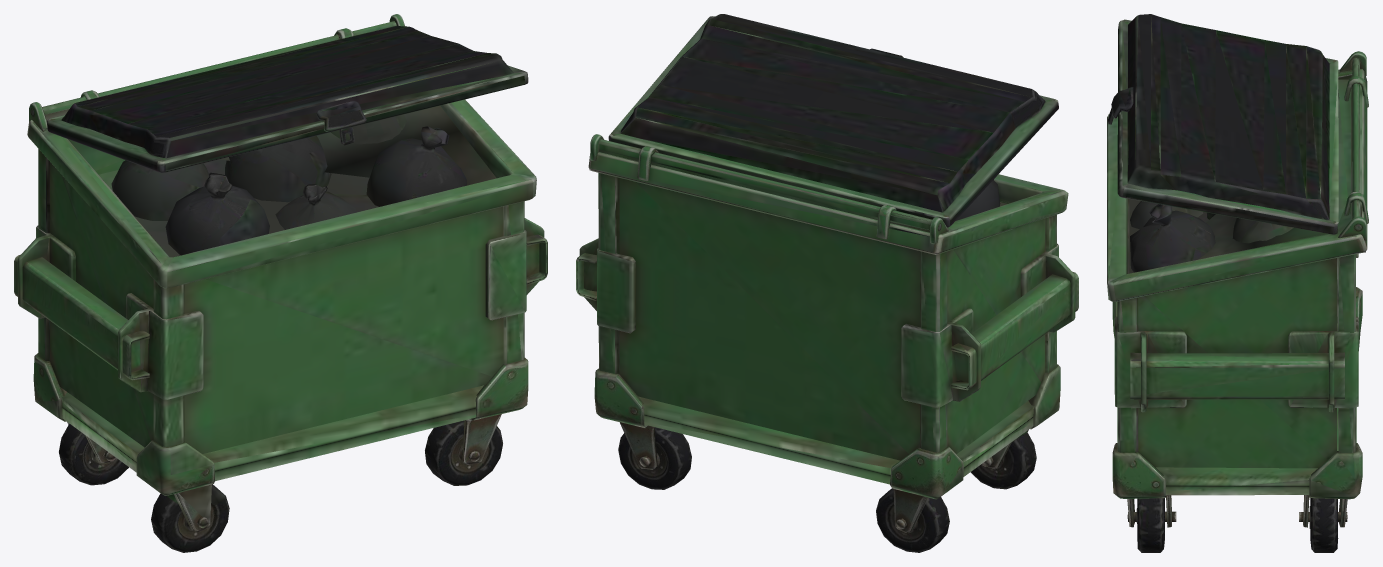
Rendered from dumpster_open.glb.
3 renders of one model, left to right at view 1: azimuth 30°, elevation 25°; view 2: azimuth 150°, elevation 25°; view 3: azimuth 270°, elevation 25°, orthographic. The views are drawn at different scales.
Parts seen in each view (by area): view 1: dumpster_open; view 2: dumpster_open; view 3: dumpster_open.
Part boxes in pixels (x1=…): dumpster_open: x1=14, y1=14, x2=547, y2=552; dumpster_open: x1=576, y1=14, x2=1078, y2=552; dumpster_open: x1=1107, y1=14, x2=1368, y2=552.
Size of the model in its own units: 1.9 by 1.8 by 1.08.
Materials: 1 (1 with a texture image).
